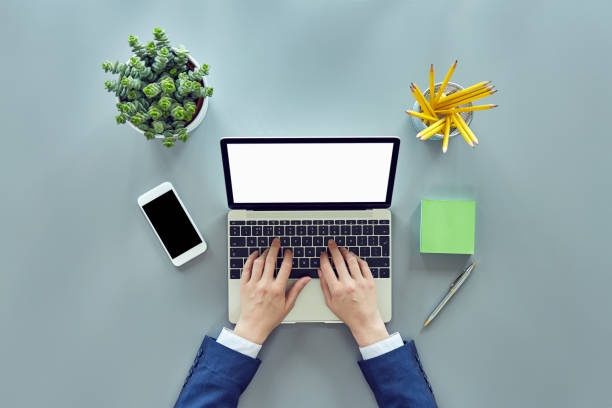keyboard: (229, 218, 393, 281)
laptop: (218, 134, 402, 326)
phone: (135, 181, 208, 268)
